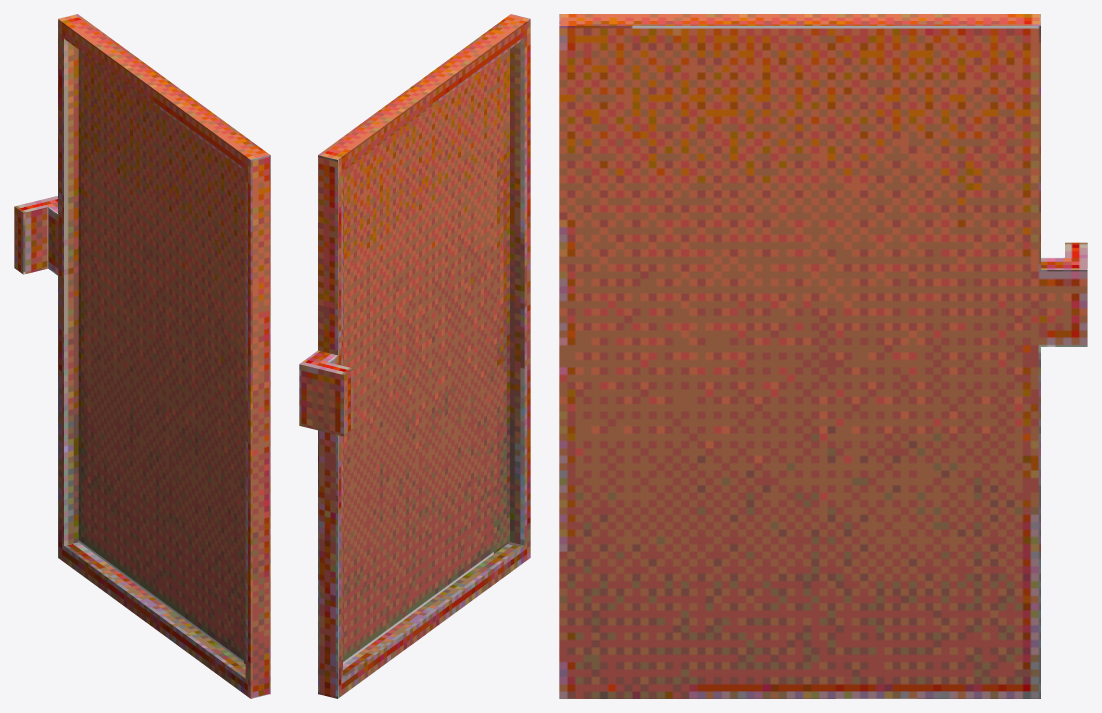
File: Puerta_Caja_FusiblesBotones.fbx
3 views of the same model, side by side, from view 1: azimuth 30°, elevation 25°; view 2: azimuth 150°, elevation 25°; view 3: azimuth 270°, elevation 25° (orthographic). The views are drawn at different scales.
Visible parts, largest first — view 1: pCube6; view 2: pCube6; view 3: pCube6.
Part boxes in pixels (<box>): pCube6: <box>14,14,270,698</box>; pCube6: <box>299,14,530,698</box>; pCube6: <box>559,14,1087,698</box>.
Size of the model in its own units: 0.2323 by 2.68 by 1.9.
